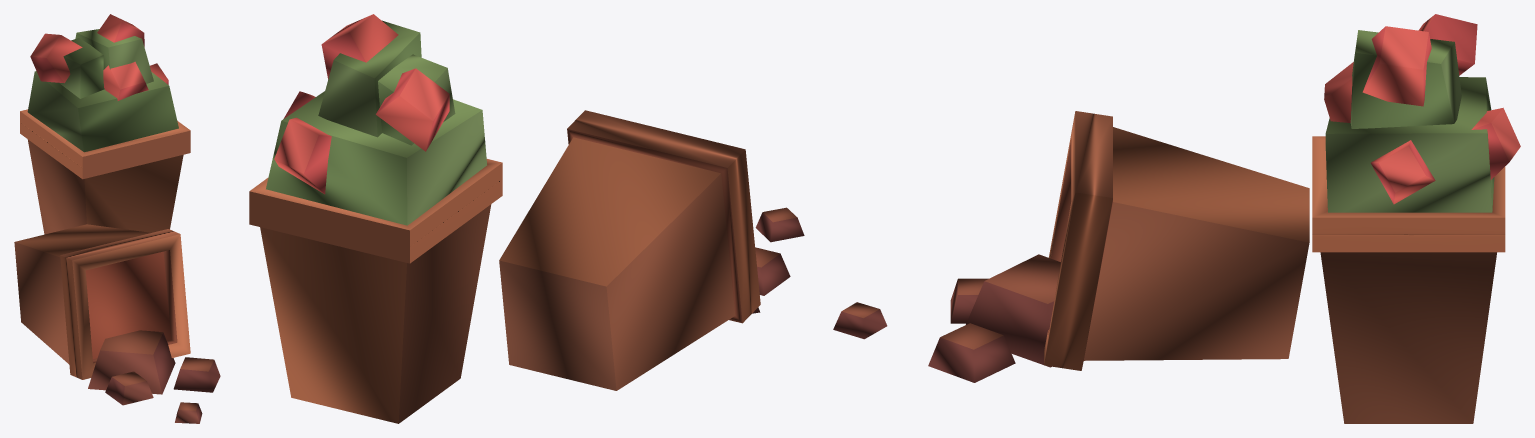
Rendered from apoc_prop_18.glb.
3 views of the same model, side by side, from view 1: azimuth 30°, elevation 25°; view 2: azimuth 150°, elevation 25°; view 3: azimuth 270°, elevation 25° (orthographic). The views are drawn at different scales.
Visible parts, largest first — view 1: prop_018; view 2: prop_018; view 3: prop_018.
Boxes of the visible parts, box(x1,y1,x2,y2) form: prop_018: box(14, 14, 220, 423); prop_018: box(249, 14, 804, 423); prop_018: box(833, 14, 1520, 423).
Bounding box in the file's own units: 0.0937 × 0.1111 × 0.1808.
1 material, 1 textured.
